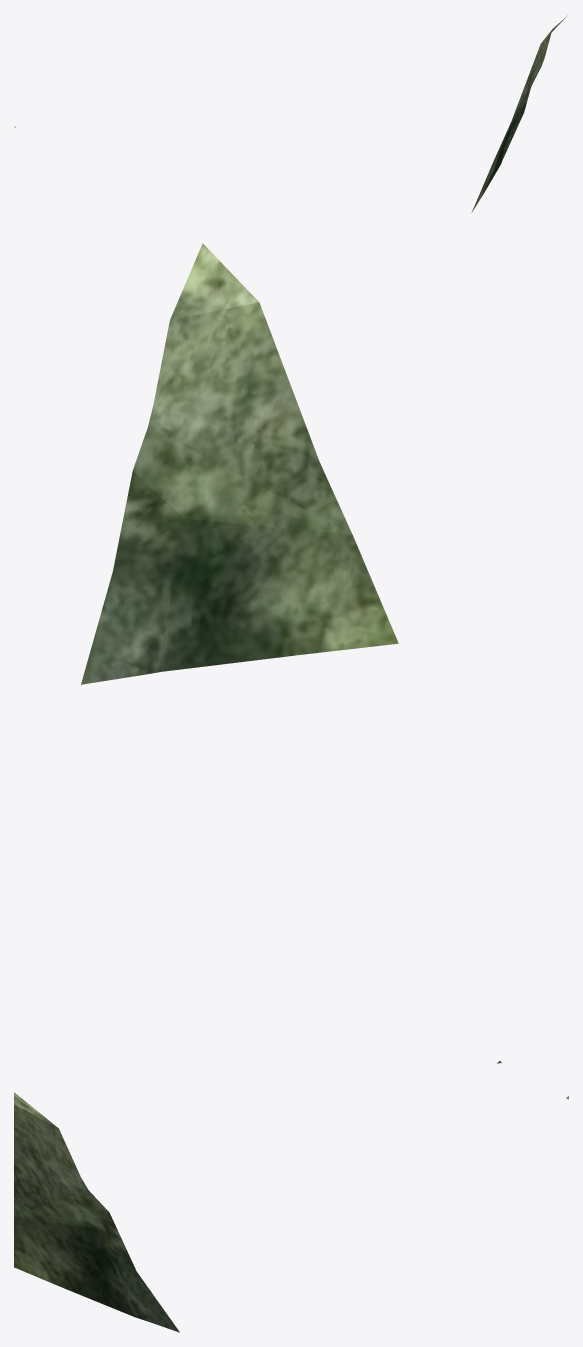
3 views of the same model, one above another, from view 1: azimuth 30°, elevation 25°; view 2: azimuth 150°, elevation 25°; view 3: azimuth 270°, elevation 25° (orthographic). The views are drawn at different scales.
Size of the model in its own units: 5.9 by 2.82 by 5.9.
Materials: 1 (1 with a texture image).
